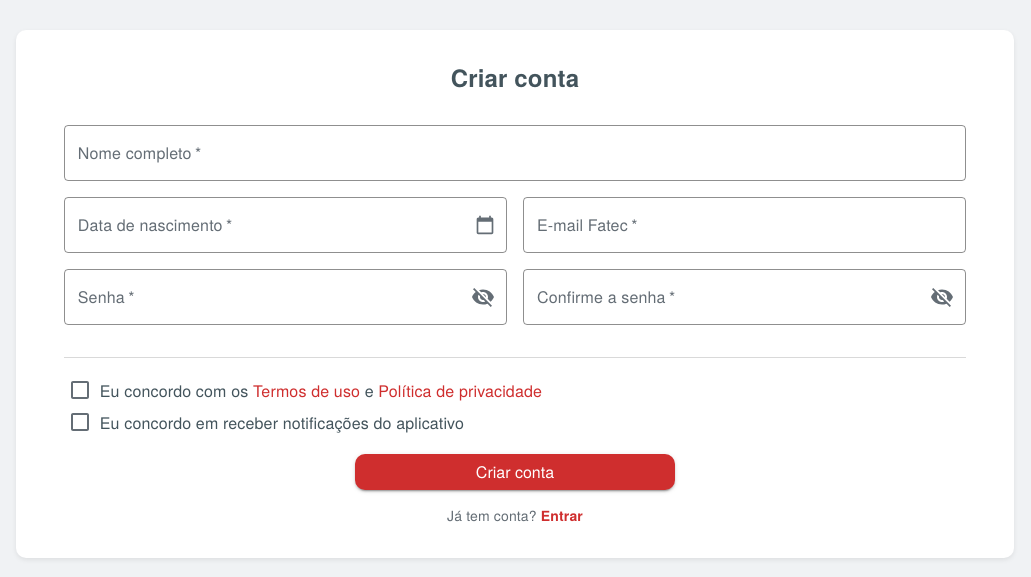
it: Signup › should report the failure for status 409
In the field labelled "Nome completo *": (515, 153) [64, 125, 966, 181], type "Maria Silva"
In the field labelled "E-mail Fatec *": (745, 225) [523, 197, 966, 253], type "maria.silva@aluno.cps.sp.gov.br"
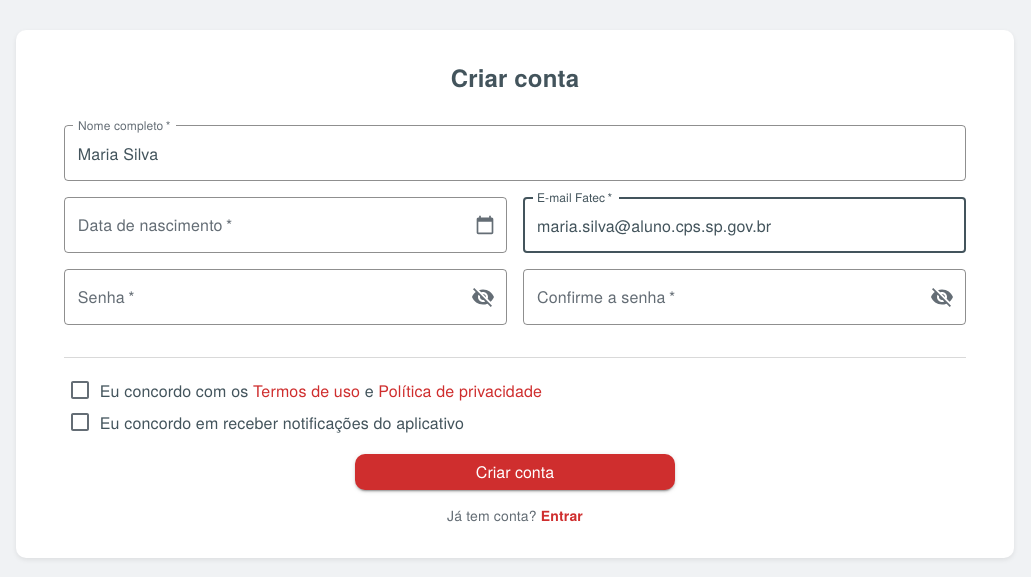
In the field labelled "Data de nascimento *": (261, 225) [64, 197, 459, 253], type "22051999"
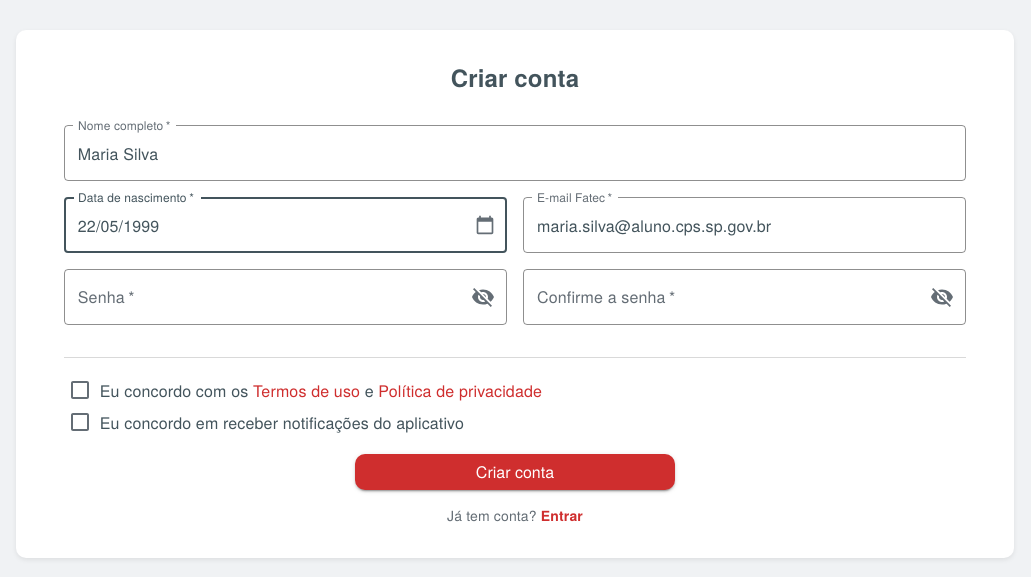
In the password field labelled "Senha *": (259, 297) [64, 269, 455, 325], type "segredo123"
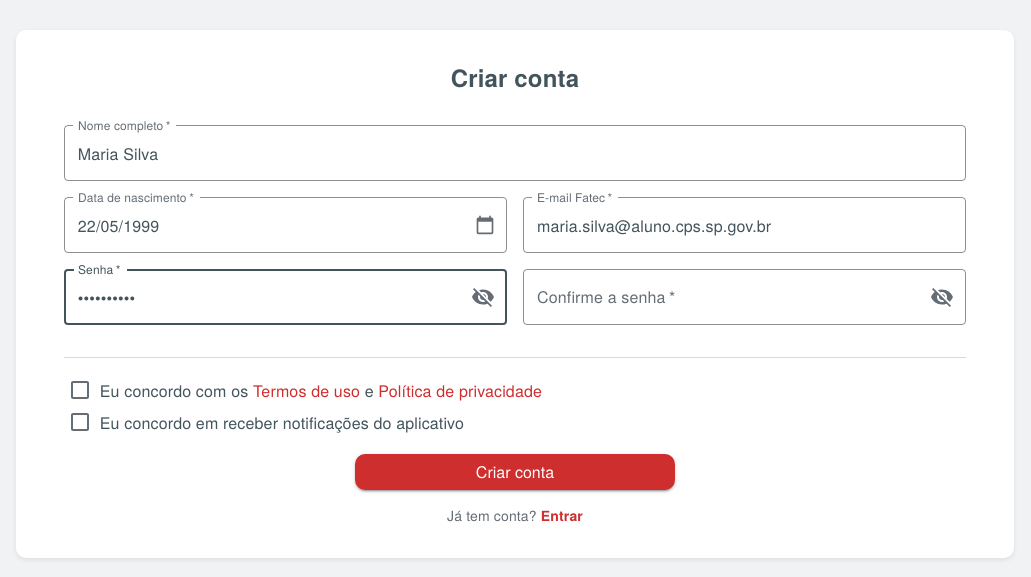
In the password field labelled "Confirme a senha *": (719, 297) [523, 269, 914, 325], type "segredo123"
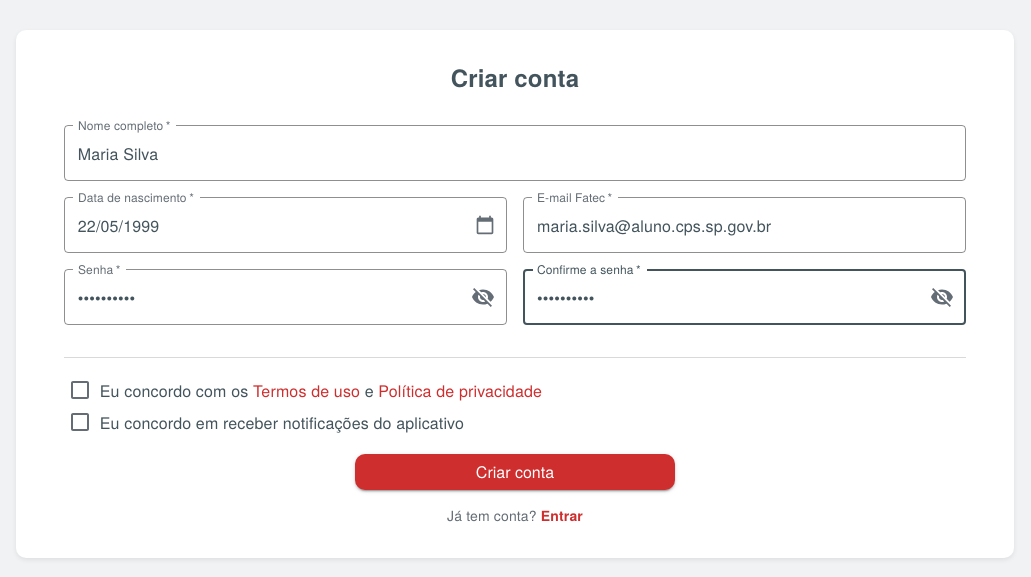
Click the checkbox named "Termos de uso": (174, 390) [100, 379, 253, 402]
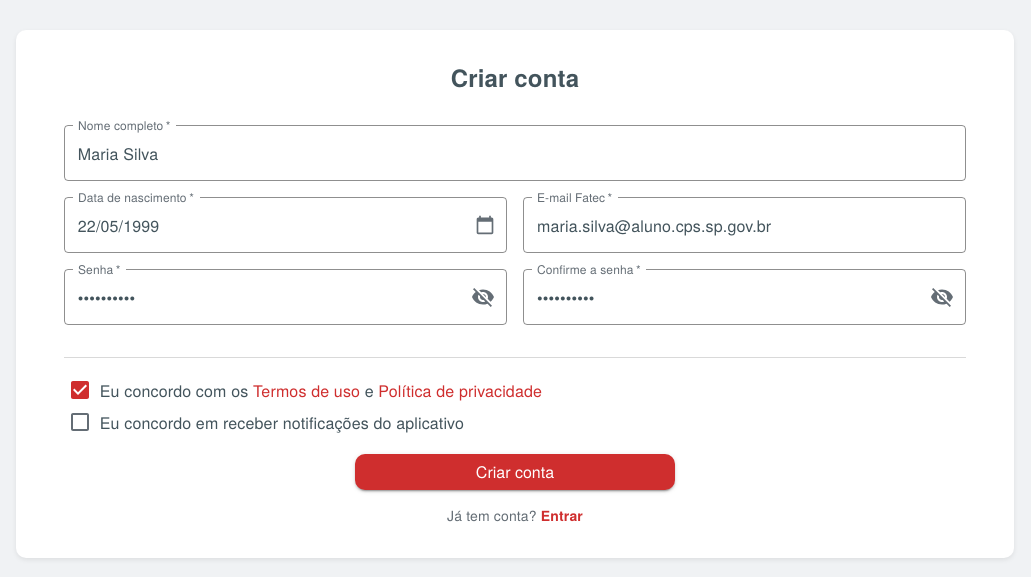
Click the button "Criar conta": (515, 472) [355, 454, 675, 490]
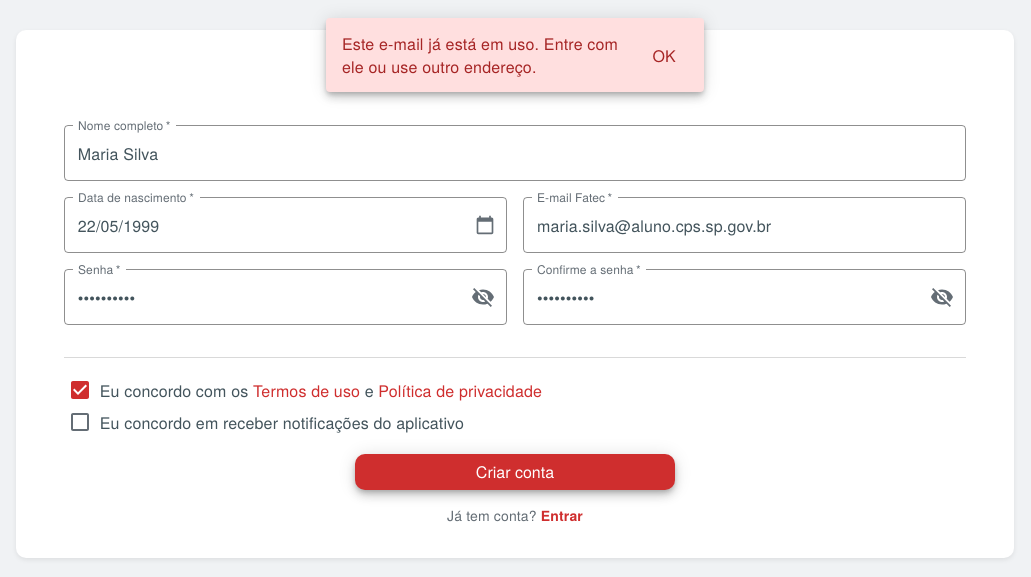
expect the text "Este e-mail já está em uso. Entre com ele ou use outro endereço." is shown: met, box [326, 18, 632, 92]
